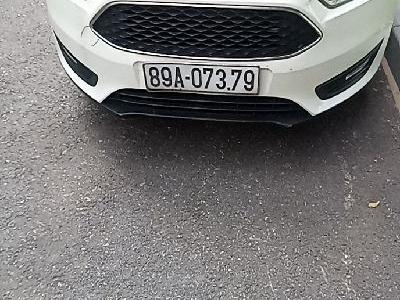car: (142, 60, 263, 96)
